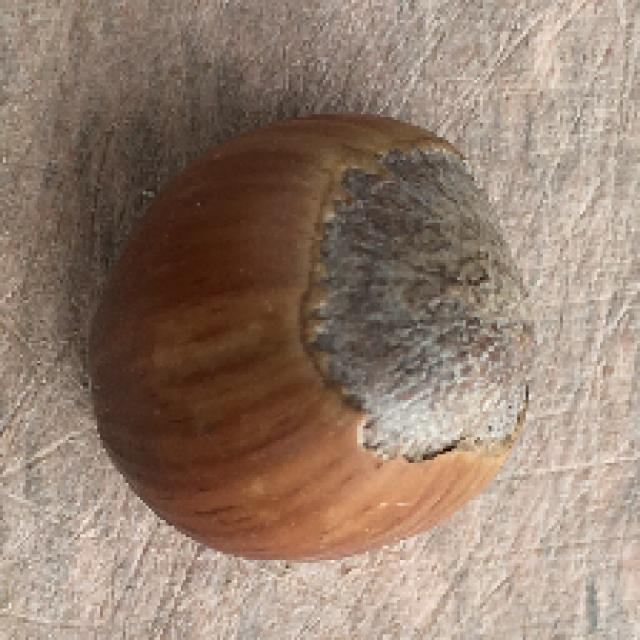DamagedHazelnut: (86, 121, 543, 559)
